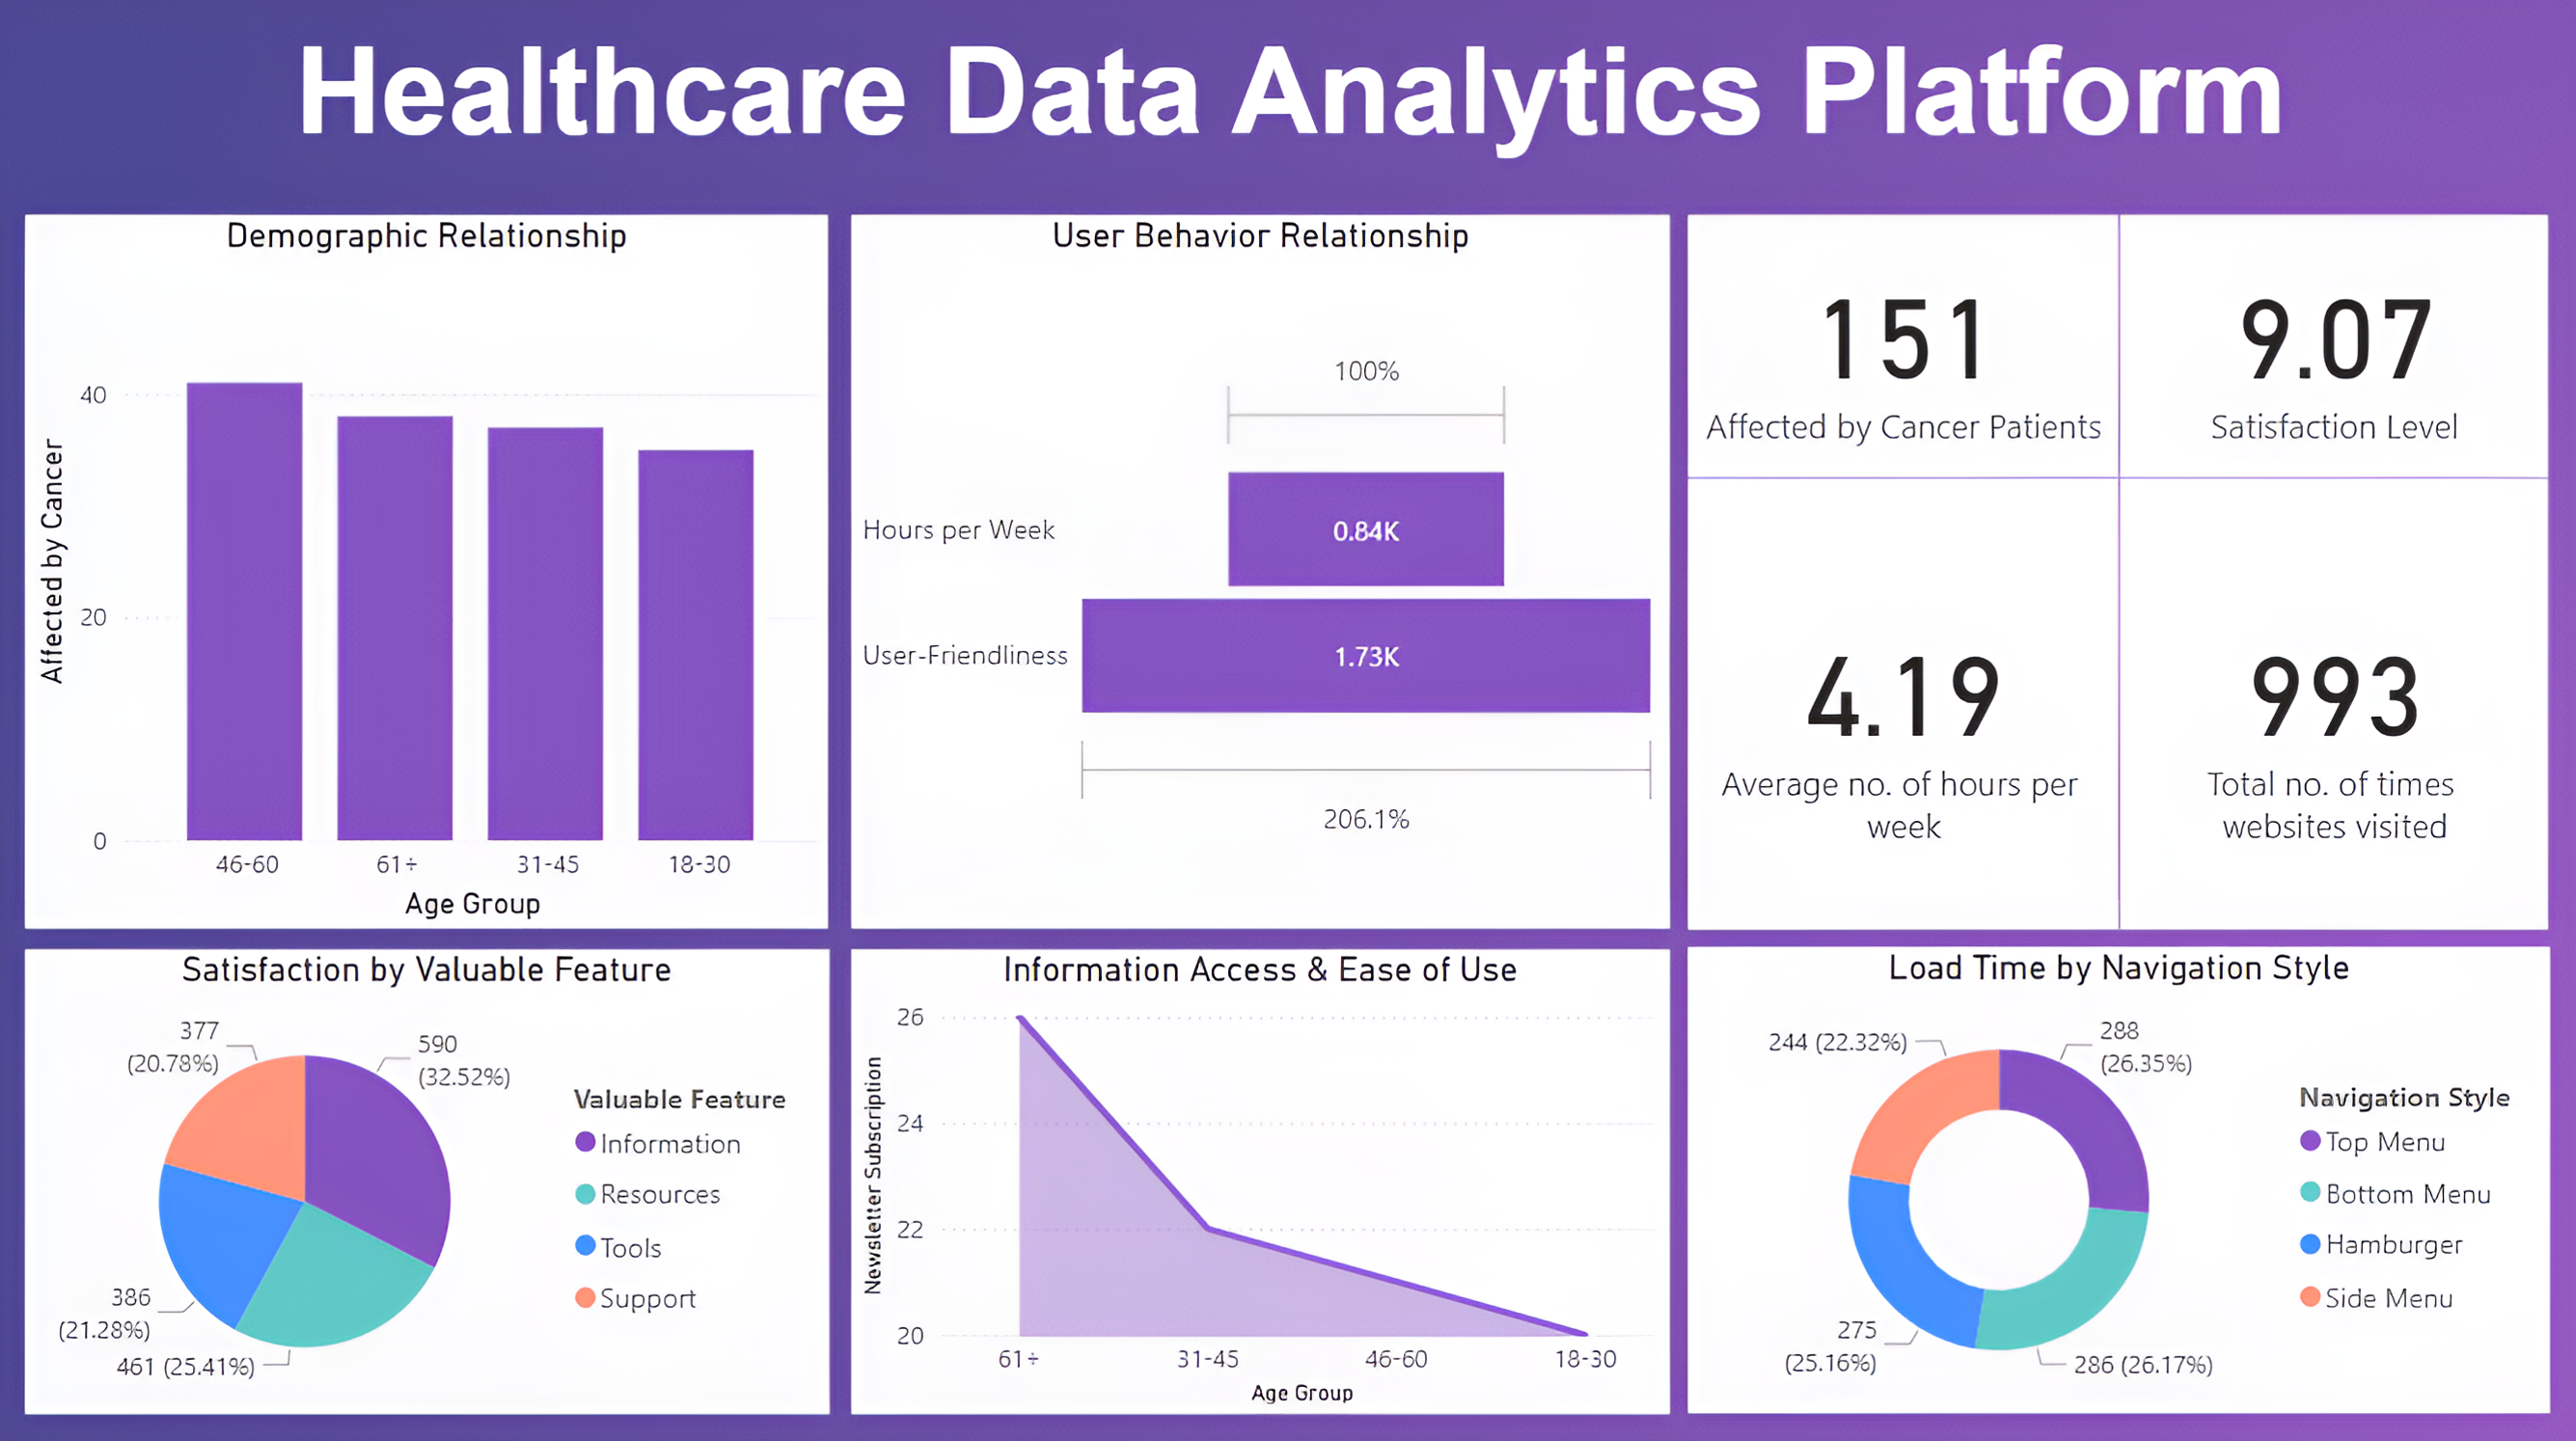

Layout of this report page (visuals, bound fields, positions):
{"tool":"powerbi","page":{"name":"Page 1","canvas":[1280,720],"ordinal":0},"visuals":[{"type":"lineClusteredColumnComboChart","title":"Demographic Relationship","fields":{"Category":["Sheet1.Age Group"],"Y":["Sum(Sheet1.Affected by Cancer)"]},"box":[22.7,119.9,392.6,348.9],"z":0},{"type":"pieChart","fields":{"Category":["Sheet1.Q14 Most Valuable Feature"],"Y":["Sum(Sheet1.Q6 Satisfaction)"]},"box":[22.7,478.5,393,227],"z":1000},{"type":"funnel","title":"User Behavior Relationship","fields":{"Y":["Sum(Sheet1.Q5 Hours per Week)","Sum(Sheet1.Q8 User-Friendliness)"]},"box":[426,119.9,400.2,348.9],"z":2000},{"type":"areaChart","title":"Information Access & Ease of Use","fields":{"Category":["Sheet1.Age Group"],"Y":["Sum(Sheet1.Q18 Newsletter Subscription)"]},"box":[425.7,478.5,400,227],"z":3000},{"type":"card","fields":{"Values":["Sum(Sheet1.Affected by Cancer)"]},"box":[834.9,120,210.6,128.5],"z":4000},{"type":"card","fields":{"Values":["Avg(Sheet1.Q5 Hours per Week)"]},"box":[834.9,248.5,210.6,220.4],"z":5000},{"type":"card","fields":{"Values":["Avg(Sheet1.Q6 Satisfaction)"]},"box":[1046.7,120,209.3,128.5],"z":6000},{"type":"card","fields":{"Values":["Sum(Sheet1.Q7 Websites Visited)"]},"box":[1046.7,248.5,209.3,220.4],"z":7000},{"type":"donutChart","fields":{"Category":["Sheet1.Q23 Navigation Style Preference"],"Y":["Sum(Sheet1.Q12 Load Time)"]},"box":[835,477.8,421.3,228],"z":8000},{"type":"textbox","box":[142,20.8,996.5,84.5],"z":9000}]}

Visuals, with their boxes in screenshot pixels (x1, y1, x2, y2), scaled from the page's 1280x720 canvas onto the 2576x1441 screenshot:
"Demographic Relationship" lineClusteredColumnComboChart: BBox(45, 240, 836, 938)
pieChart - Sheet1.Q14 Most Valuable Feature x Sum(Sheet1.Q6 Satisfaction): BBox(45, 958, 836, 1412)
"User Behavior Relationship" funnel: BBox(858, 240, 1662, 938)
"Information Access & Ease of Use" areaChart: BBox(857, 958, 1661, 1412)
card - Sum(Sheet1.Affected by Cancer): BBox(1681, 240, 2104, 498)
card - Avg(Sheet1.Q5 Hours per Week): BBox(1681, 498, 2104, 938)
card - Avg(Sheet1.Q6 Satisfaction): BBox(2106, 240, 2528, 498)
card - Sum(Sheet1.Q7 Websites Visited): BBox(2106, 498, 2528, 938)
donutChart - Sheet1.Q23 Navigation Style Preference x Sum(Sheet1.Q12 Load Time): BBox(1681, 956, 2529, 1413)
textbox: BBox(286, 41, 2291, 210)
